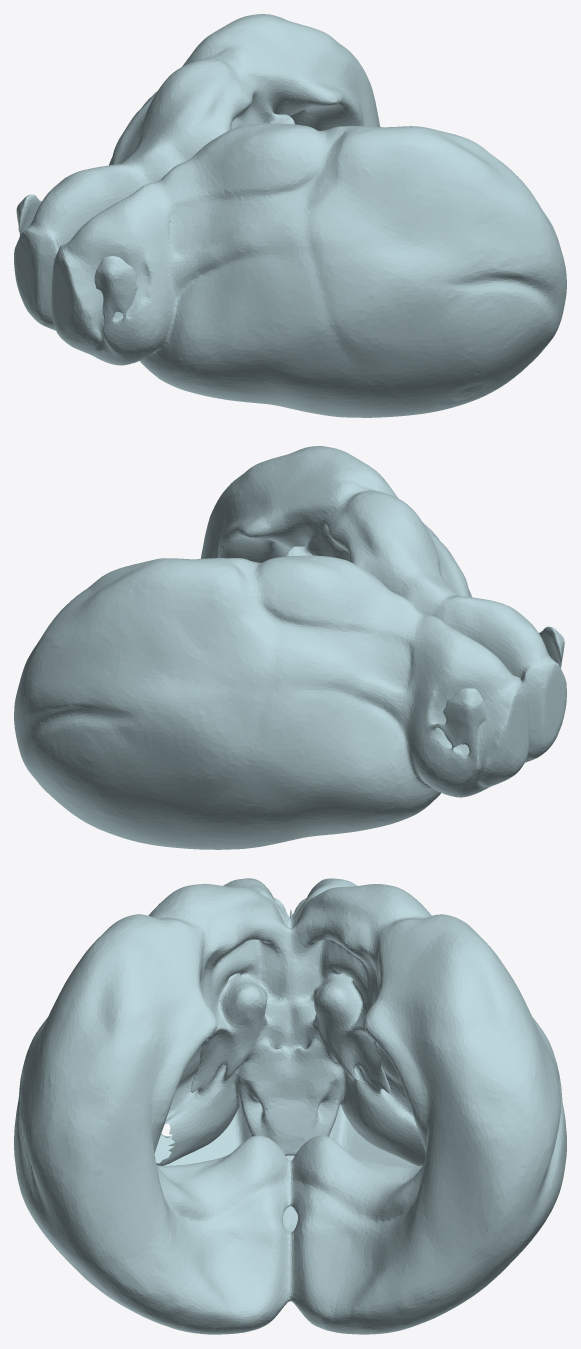
3 views of the same model, one above another, from view 1: azimuth 30°, elevation 25°; view 2: azimuth 150°, elevation 25°; view 3: azimuth 270°, elevation 25° (orthographic). The views are drawn at different scales.
Parts seen in each view (by area): view 1: 567.obj; view 2: 567.obj; view 3: 567.obj.
Boxes of the visible parts, bbox=[...] form: 567.obj: bbox=[14, 14, 566, 417]; 567.obj: bbox=[14, 446, 566, 849]; 567.obj: bbox=[14, 878, 566, 1334].
Size of the model in its own units: 10440 by 7416 by 10390.
